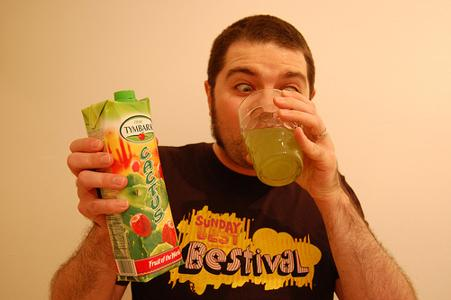person: (49, 14, 418, 299)
